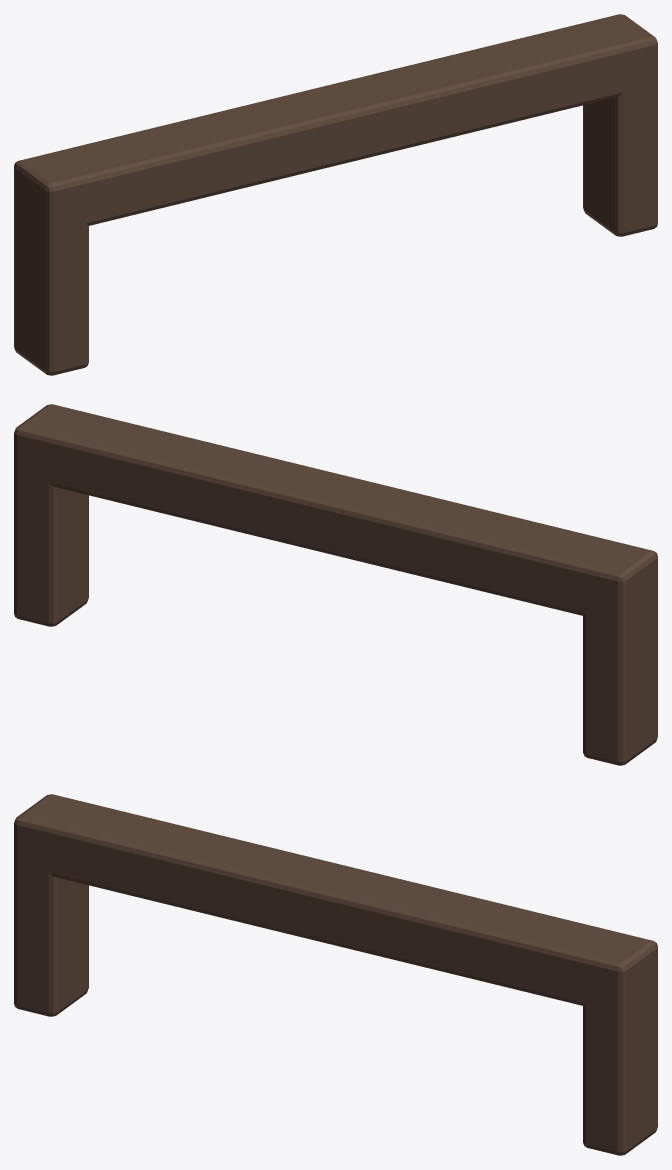
File: wall_knee_2m__structure.glb
3 renders of one model, top to bottom at view 1: azimuth 30°, elevation 25°; view 2: azimuth 150°, elevation 25°; view 3: azimuth 330°, elevation 25°, orthographic.
Visible parts, largest first — view 1: wall_knee_2m__structure__mesh_00; view 2: wall_knee_2m__structure__mesh_00; view 3: wall_knee_2m__structure__mesh_00.
Part boxes in pixels (x1,y1,x2,y2): wall_knee_2m__structure__mesh_00: [14, 14, 657, 375]; wall_knee_2m__structure__mesh_00: [14, 404, 657, 765]; wall_knee_2m__structure__mesh_00: [14, 794, 657, 1155].
Size of the model in its own units: 2 by 0.6 by 0.21.
